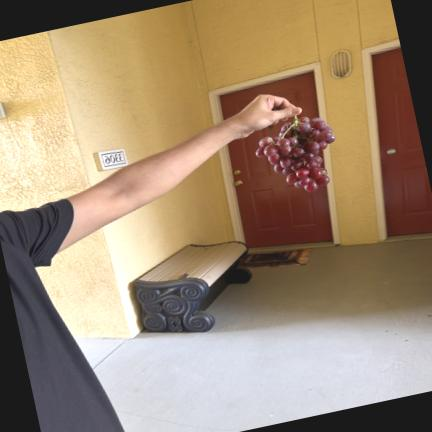grape_cluster: (256, 116, 336, 192), (117, 410, 249, 431)
